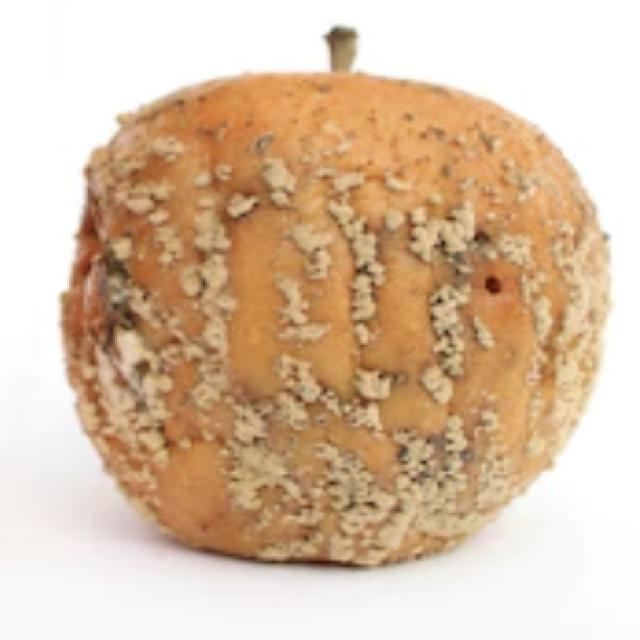Rotten: (54, 60, 608, 577)
